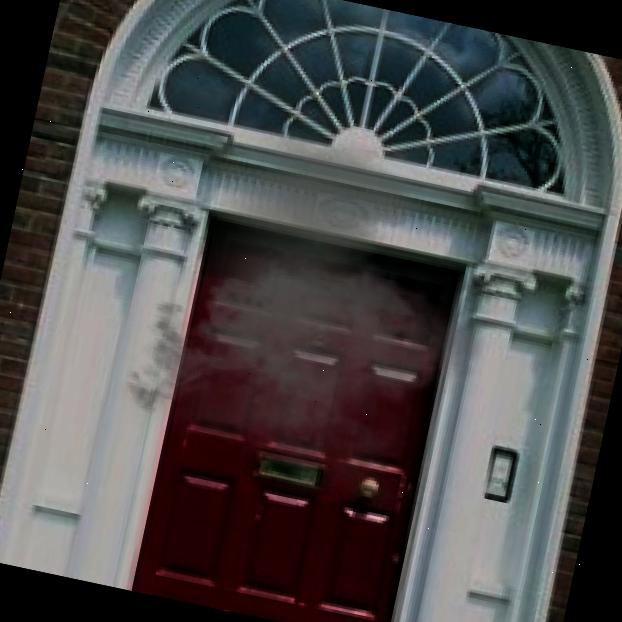smoke: (99, 102, 534, 528)
